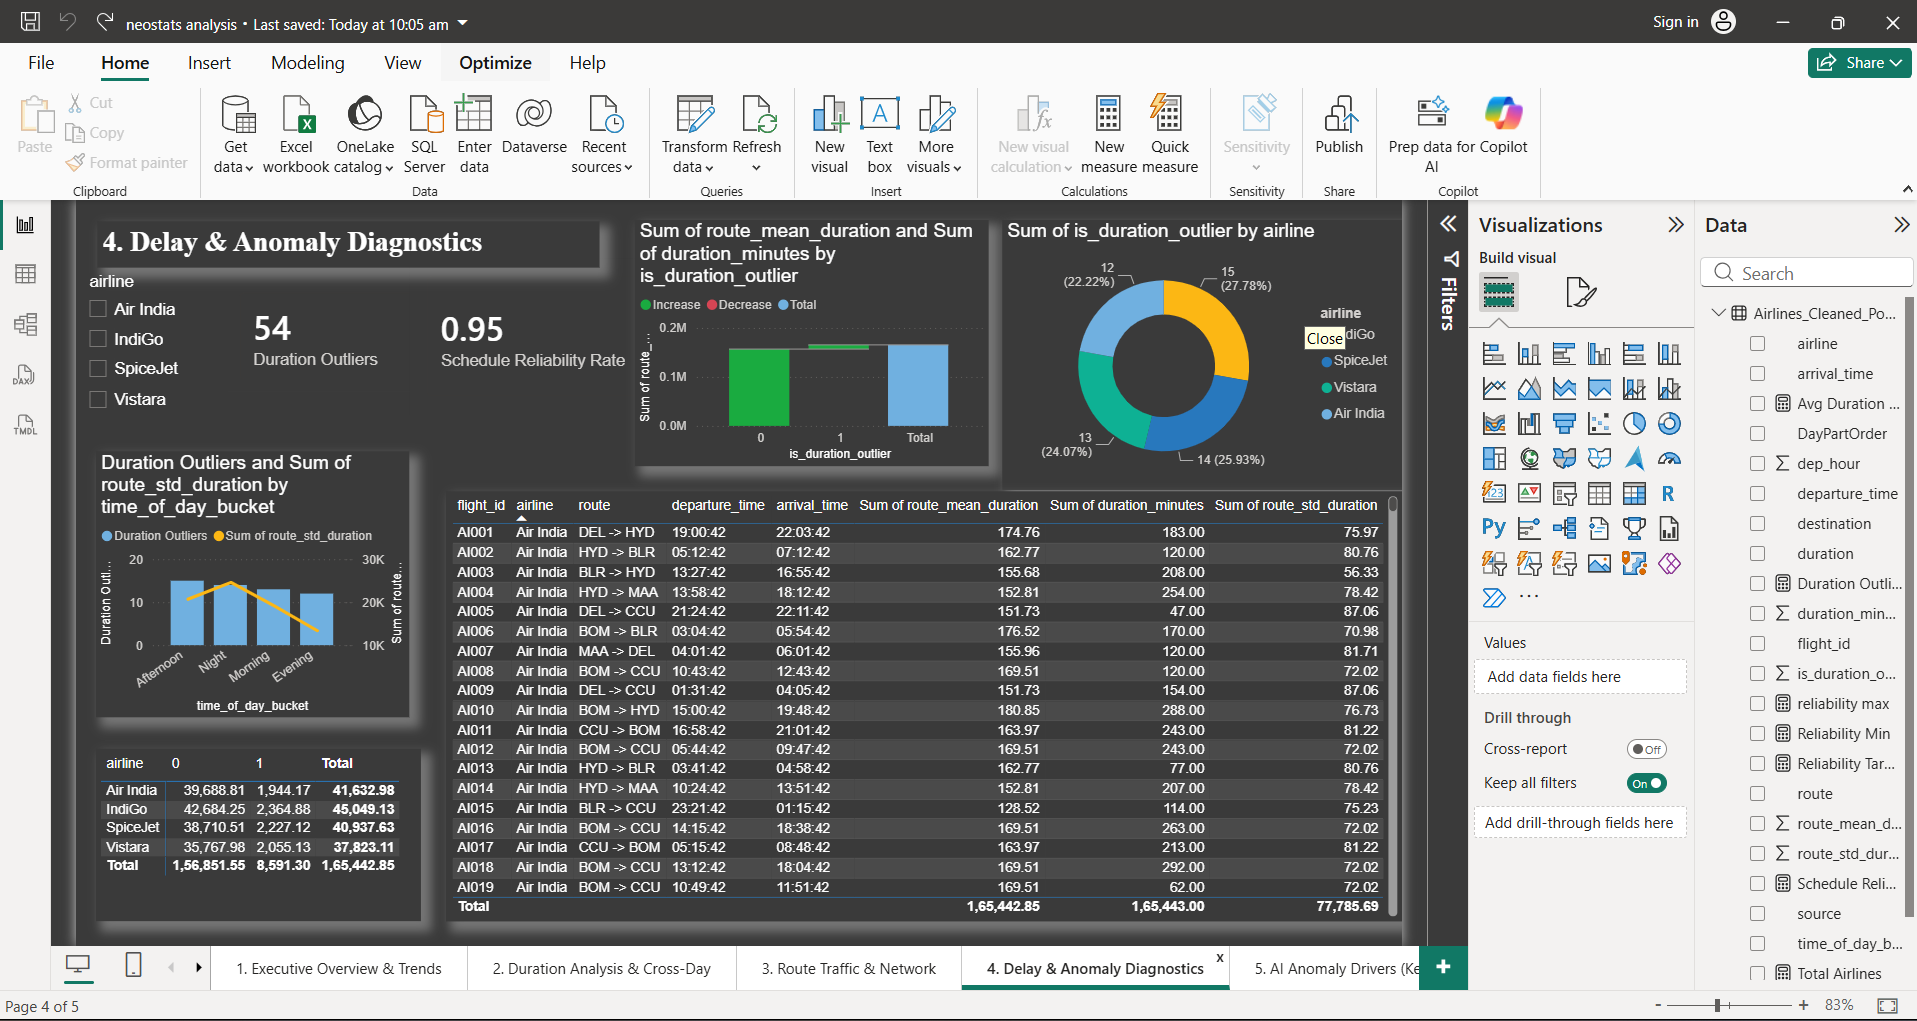

The page's visual inventory and layout, read from the dashboard file:
{"tool":"powerbi","page":{"name":"4. Delay & Anomaly Diagnostics","canvas":[1280,720],"ordinal":3},"visuals":[{"type":"cardVisual","fields":{"Data":["Airlines_Cleaned_PowerBI.Duration Outliers"]},"box":[141.7,72.2,215.3,118.1],"z":0},{"type":"cardVisual","fields":{"Data":["Airlines_Cleaned_PowerBI.Schedule Reliability Rate"]},"box":[322.2,56.9,247.2,150],"z":1000},{"type":"slicer","fields":{"Values":["Airlines_Cleaned_PowerBI.airline"]},"box":[0,65.3,141.7,150],"z":2000},{"type":"textbox","box":[20,20,485,45],"z":3000},{"type":"waterfallChart","fields":{"Category":["Airlines_Cleaned_PowerBI.is_duration_outlier"],"Y":["Sum(Airlines_Cleaned_PowerBI.route_mean_duration)"]},"box":[538.9,19.4,341.7,237.5],"z":4000},{"type":"donutChart","fields":{"Category":["Airlines_Cleaned_PowerBI.airline"],"Y":["Sum(Airlines_Cleaned_PowerBI.is_duration_outlier)"]},"box":[894.4,19.4,386.1,261.1],"z":5000},{"type":"lineClusteredColumnComboChart","fields":{"Category":["Airlines_Cleaned_PowerBI.time_of_day_bucket"],"Y":["Airlines_Cleaned_PowerBI.Duration Outliers"],"Y2":["Sum(Airlines_Cleaned_PowerBI.route_std_duration)"]},"box":[19.4,243.1,302.8,256.9],"z":6000},{"type":"pivotTable","fields":{"Rows":["Airlines_Cleaned_PowerBI.airline"],"Values":["Sum(Airlines_Cleaned_PowerBI.route_mean_duration)"],"Columns":["Airlines_Cleaned_PowerBI.is_duration_outlier"]},"box":[19.4,529.2,313.9,166.7],"z":7000},{"type":"tableEx","fields":{"Values":["Airlines_Cleaned_PowerBI.flight_id","Airlines_Cleaned_PowerBI.airline","Airlines_Cleaned_PowerBI.route","Airlines_Cleaned_PowerBI.departure_time","Airlines_Cleaned_PowerBI.arrival_time","Sum(Airlines_Cleaned_PowerBI.route_mean_duration)","Sum(Airlines_Cleaned_PowerBI.duration_minutes)","Sum(Airlines_Cleaned_PowerBI.route_std_duration)"]},"box":[356.9,280.6,923.6,415.3],"z":8000}]}

Visuals, with their boxes on the page's 1280x720 design canvas (x1, y1, x2, y2). These are canvas units, not pixel positions in the 1917x1021 screenshot, which may show the page scaled, cropped or inside an application window:
cardVisual - Airlines_Cleaned_PowerBI.Duration Outliers: {"left": 142, "top": 72, "right": 357, "bottom": 190}
cardVisual - Airlines_Cleaned_PowerBI.Schedule Reliability Rate: {"left": 322, "top": 57, "right": 569, "bottom": 207}
slicer - Airlines_Cleaned_PowerBI.airline: {"left": 0, "top": 65, "right": 142, "bottom": 215}
textbox: {"left": 20, "top": 20, "right": 505, "bottom": 65}
waterfallChart - Airlines_Cleaned_PowerBI.is_duration_outlier x Sum(Airlines_Cleaned_PowerBI.route_mean_duration): {"left": 539, "top": 19, "right": 881, "bottom": 257}
donutChart - Airlines_Cleaned_PowerBI.airline x Sum(Airlines_Cleaned_PowerBI.is_duration_outlier): {"left": 894, "top": 19, "right": 1280, "bottom": 280}
lineClusteredColumnComboChart - Airlines_Cleaned_PowerBI.time_of_day_bucket x Airlines_Cleaned_PowerBI.Duration Outliers: {"left": 19, "top": 243, "right": 322, "bottom": 500}
pivotTable - Airlines_Cleaned_PowerBI.airline x Sum(Airlines_Cleaned_PowerBI.route_mean_duration): {"left": 19, "top": 529, "right": 333, "bottom": 696}
tableEx - Airlines_Cleaned_PowerBI.flight_id x Airlines_Cleaned_PowerBI.airline: {"left": 357, "top": 281, "right": 1280, "bottom": 696}
